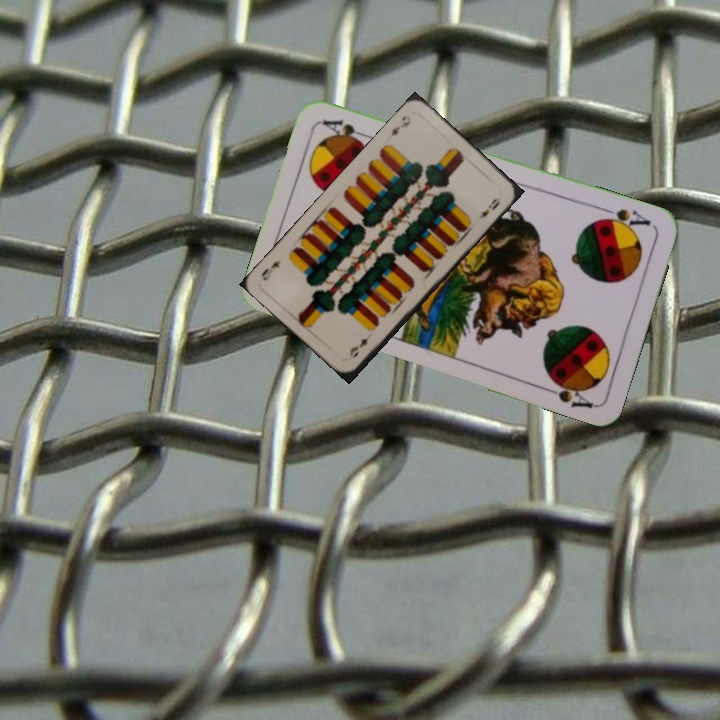E9: (387, 111, 414, 139), (345, 334, 371, 361)
SA: (594, 203, 653, 234)
